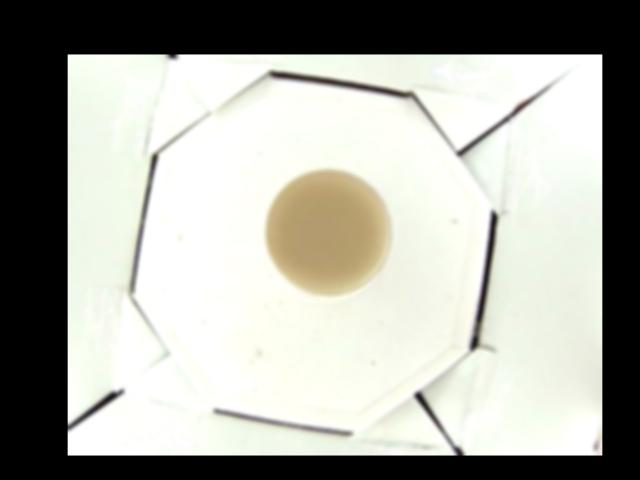Cup: (260, 166, 391, 300)
